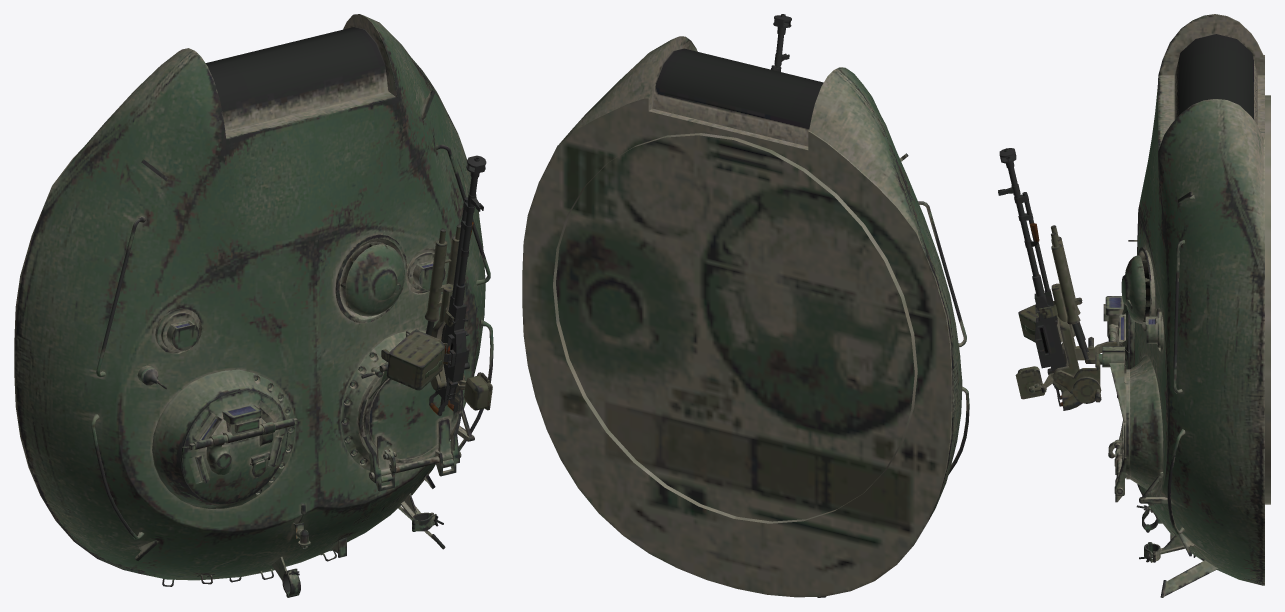
The model's file is Turret_02.glb.
3 views of the same model, side by side, from view 1: azimuth 30°, elevation 25°; view 2: azimuth 150°, elevation 25°; view 3: azimuth 270°, elevation 25° (orthographic). The views are drawn at different scales.
Parts seen in each view (by area): view 1: set_0_group_0; view 2: set_0_group_0; view 3: set_0_group_0.
Boxes of the visible parts, box(x1,y1,x2,y2) form: set_0_group_0: box(14, 14, 493, 597); set_0_group_0: box(522, 14, 969, 597); set_0_group_0: box(998, 14, 1270, 597).
Bounding box in the file's own units: 2.77 × 3.22 × 1.55.
Materials: 1 (1 with a texture image).
